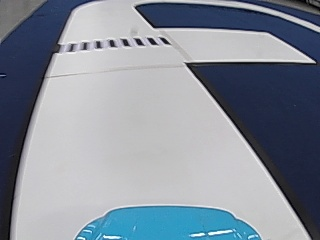CrossWalk: (59, 34, 173, 52)
